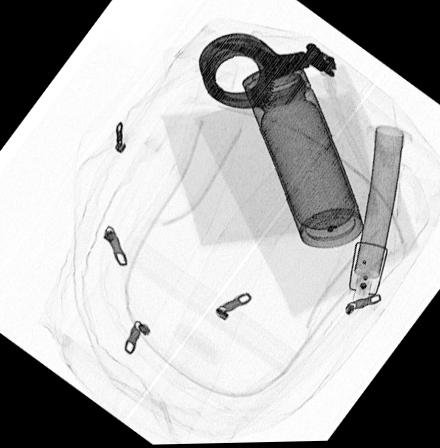HandCuffs: (196, 32, 334, 114)
